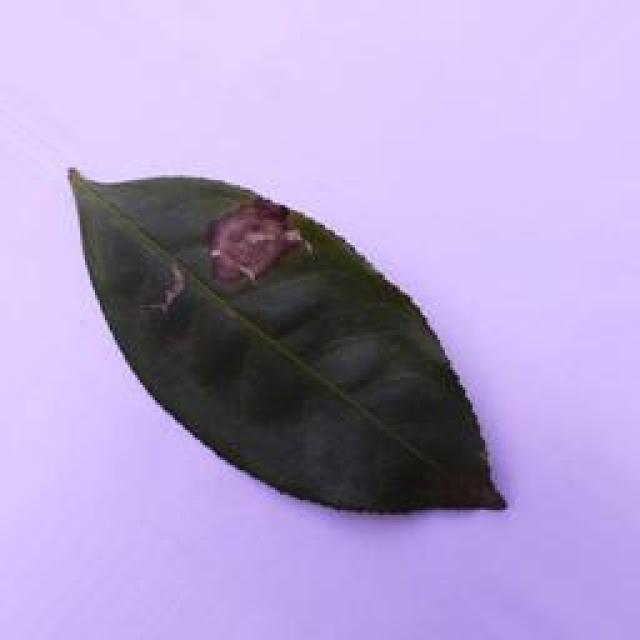Gray Blight: (60, 155, 532, 530)
